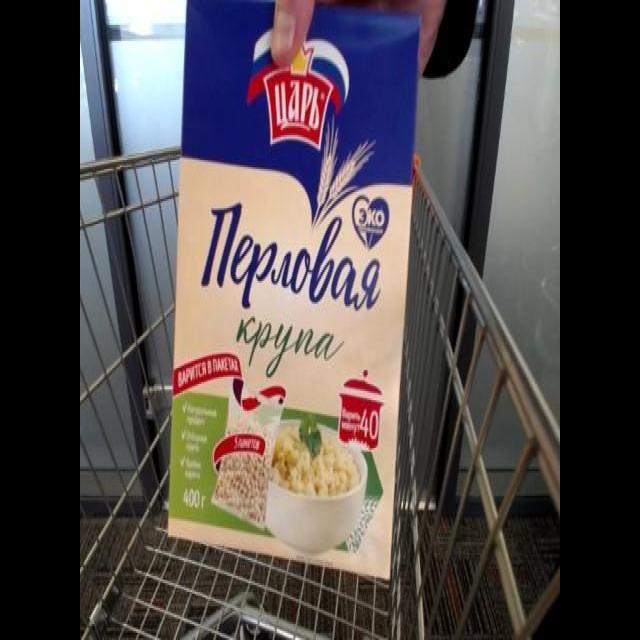Groats: (163, 2, 425, 590)
